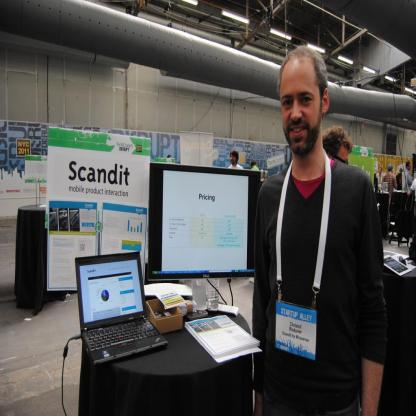board: (75, 258, 168, 374)
